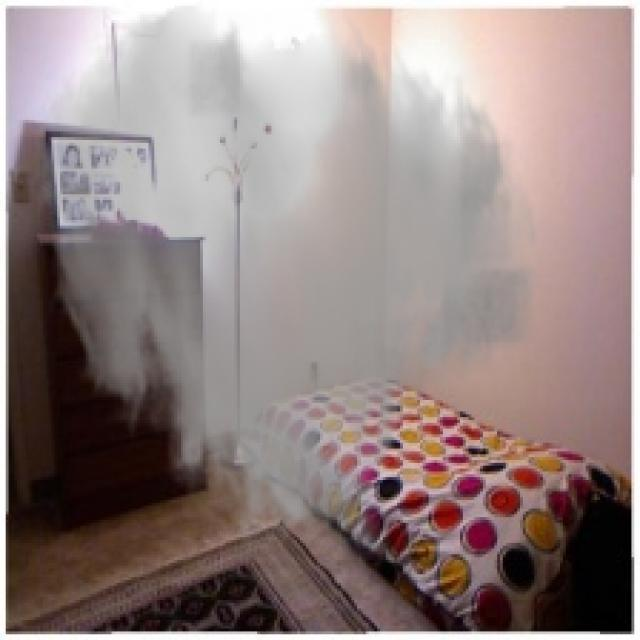Smoke: (28, 0, 543, 563)
